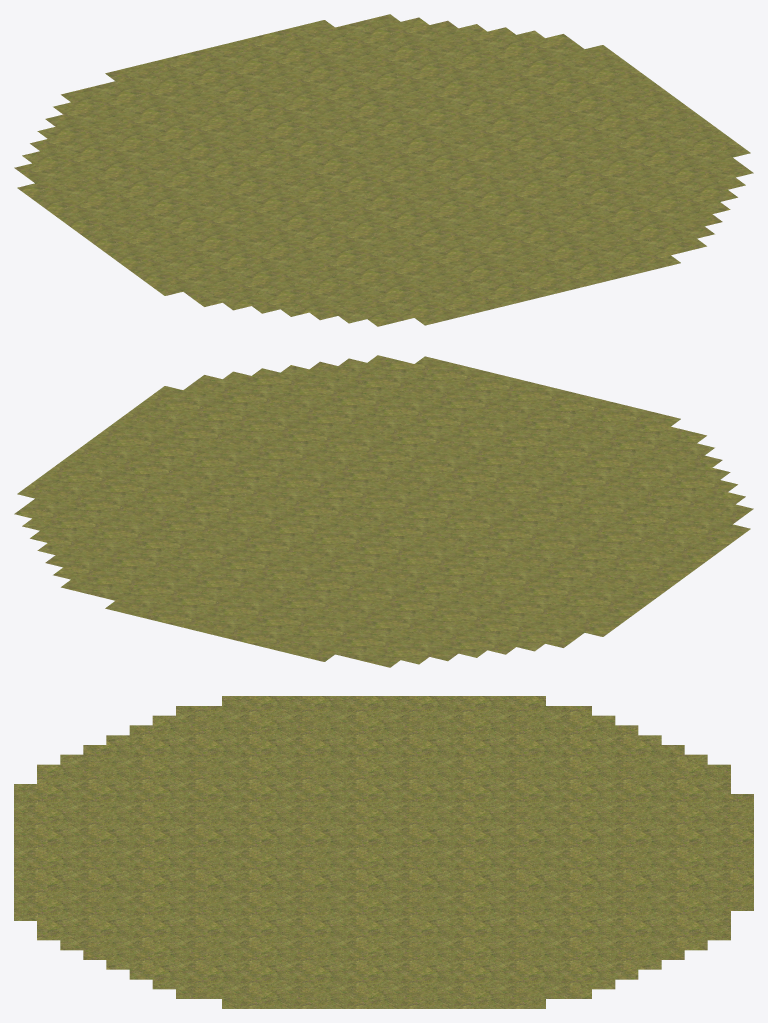
Rendered from ground.fbx.
The picture shows the model from 3 angles, top to bottom: view 1: azimuth 30°, elevation 25°; view 2: azimuth 150°, elevation 25°; view 3: azimuth 270°, elevation 25°; orthographic projection. The views are drawn at different scales.
Visible parts, largest first — view 1: Mesh; view 2: Mesh; view 3: Mesh.
Part boxes in pixels (left/top/right/bottom): Mesh: left=14, top=14, right=753, bottom=326; Mesh: left=14, top=355, right=753, bottom=667; Mesh: left=14, top=696, right=753, bottom=1008.
Size of the model in its own units: 400000 by 0 by 400000.
